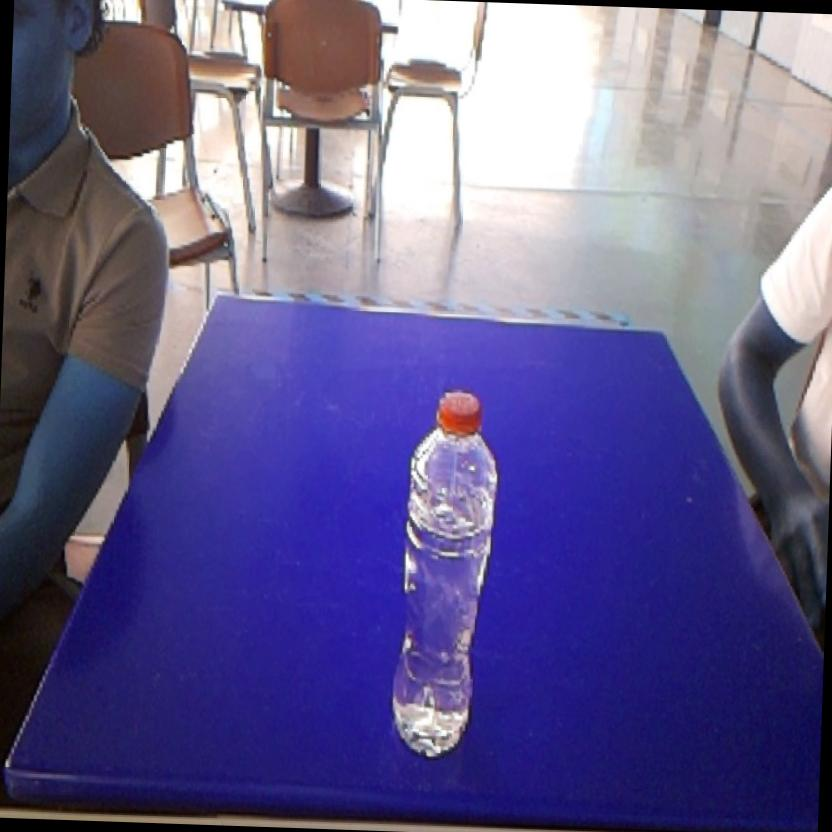no_label: (378, 374, 510, 768)
